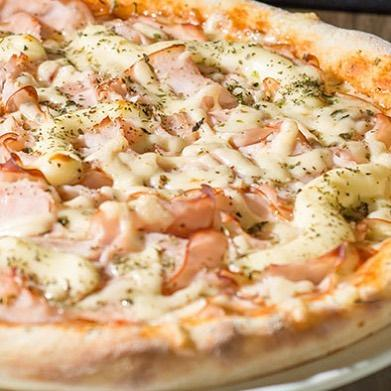Ham: (95, 37, 230, 107), (4, 269, 139, 328), (255, 242, 353, 290), (2, 155, 57, 236), (124, 188, 216, 231), (2, 0, 98, 41), (162, 234, 230, 287), (73, 114, 146, 163), (4, 87, 52, 154), (108, 17, 200, 42), (233, 182, 292, 217), (225, 124, 285, 151), (159, 109, 201, 142), (62, 78, 105, 106)
Pizza: (2, 2, 391, 391)
